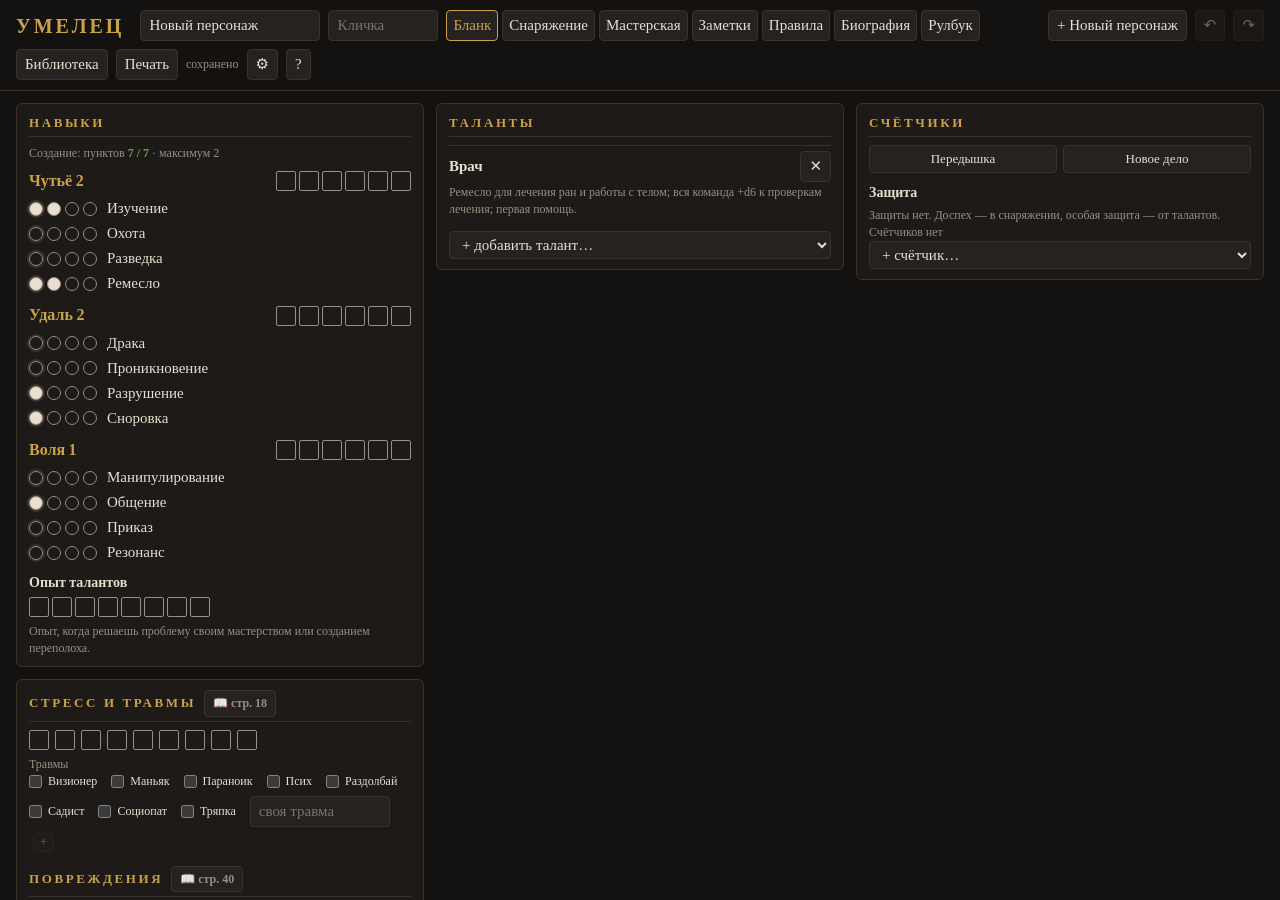
Test: Снаряжение: нагрузка › counts only what is on you (carried x load), not what is at base
Later steps or results of the test are not shown.
Click the button "Снаряжение". click: (549, 26)
box: [502,10,595,41]
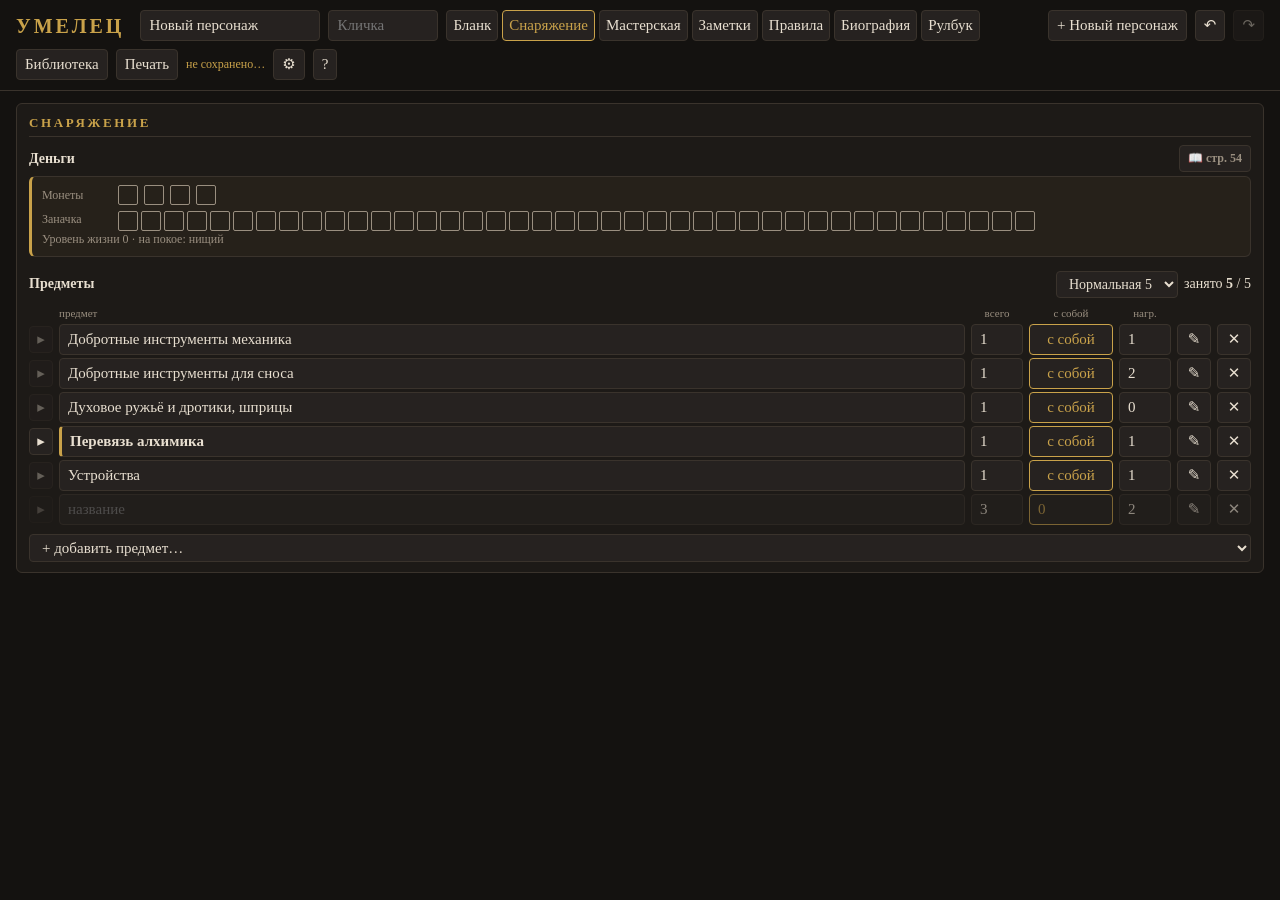
Now the element with test id "load-used" shows "5 /", box [1184,274,1251,294]
